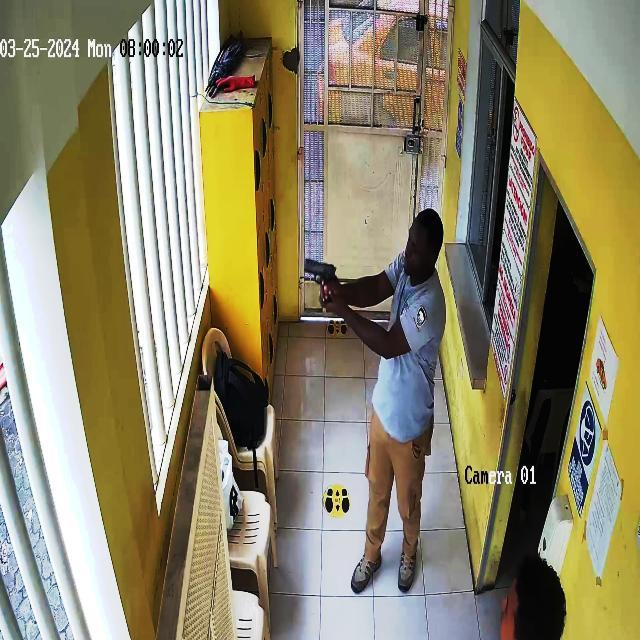Gun: (299, 246, 350, 302)
